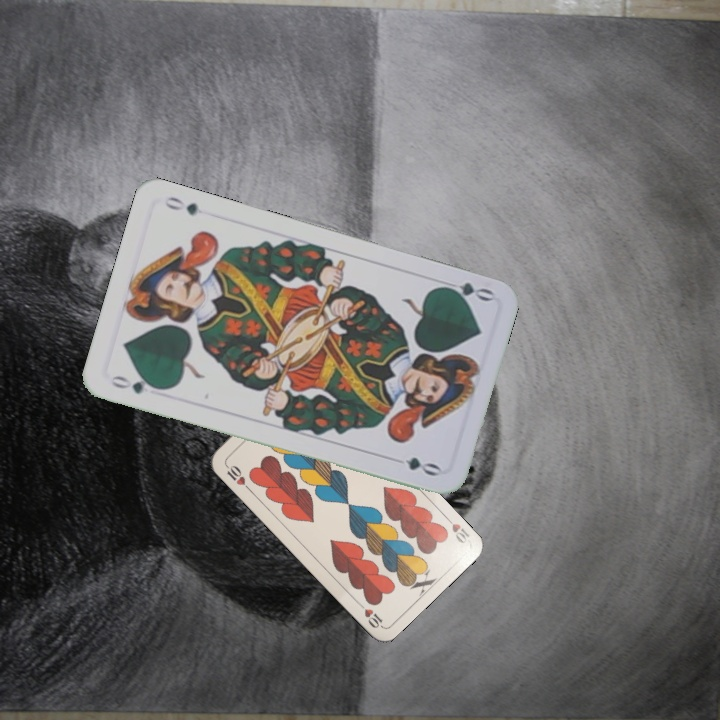GO: (435, 276, 496, 305), (107, 371, 165, 397)
H10: (441, 511, 472, 546), (221, 461, 253, 493)
